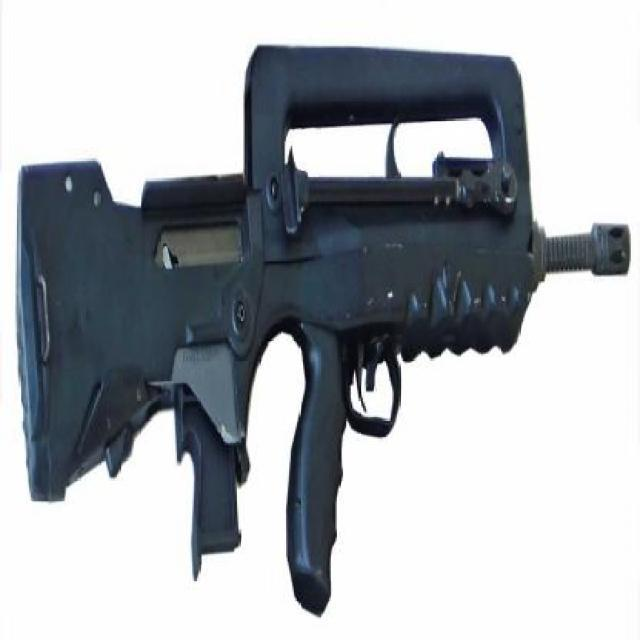weapon: (37, 39, 625, 576)
